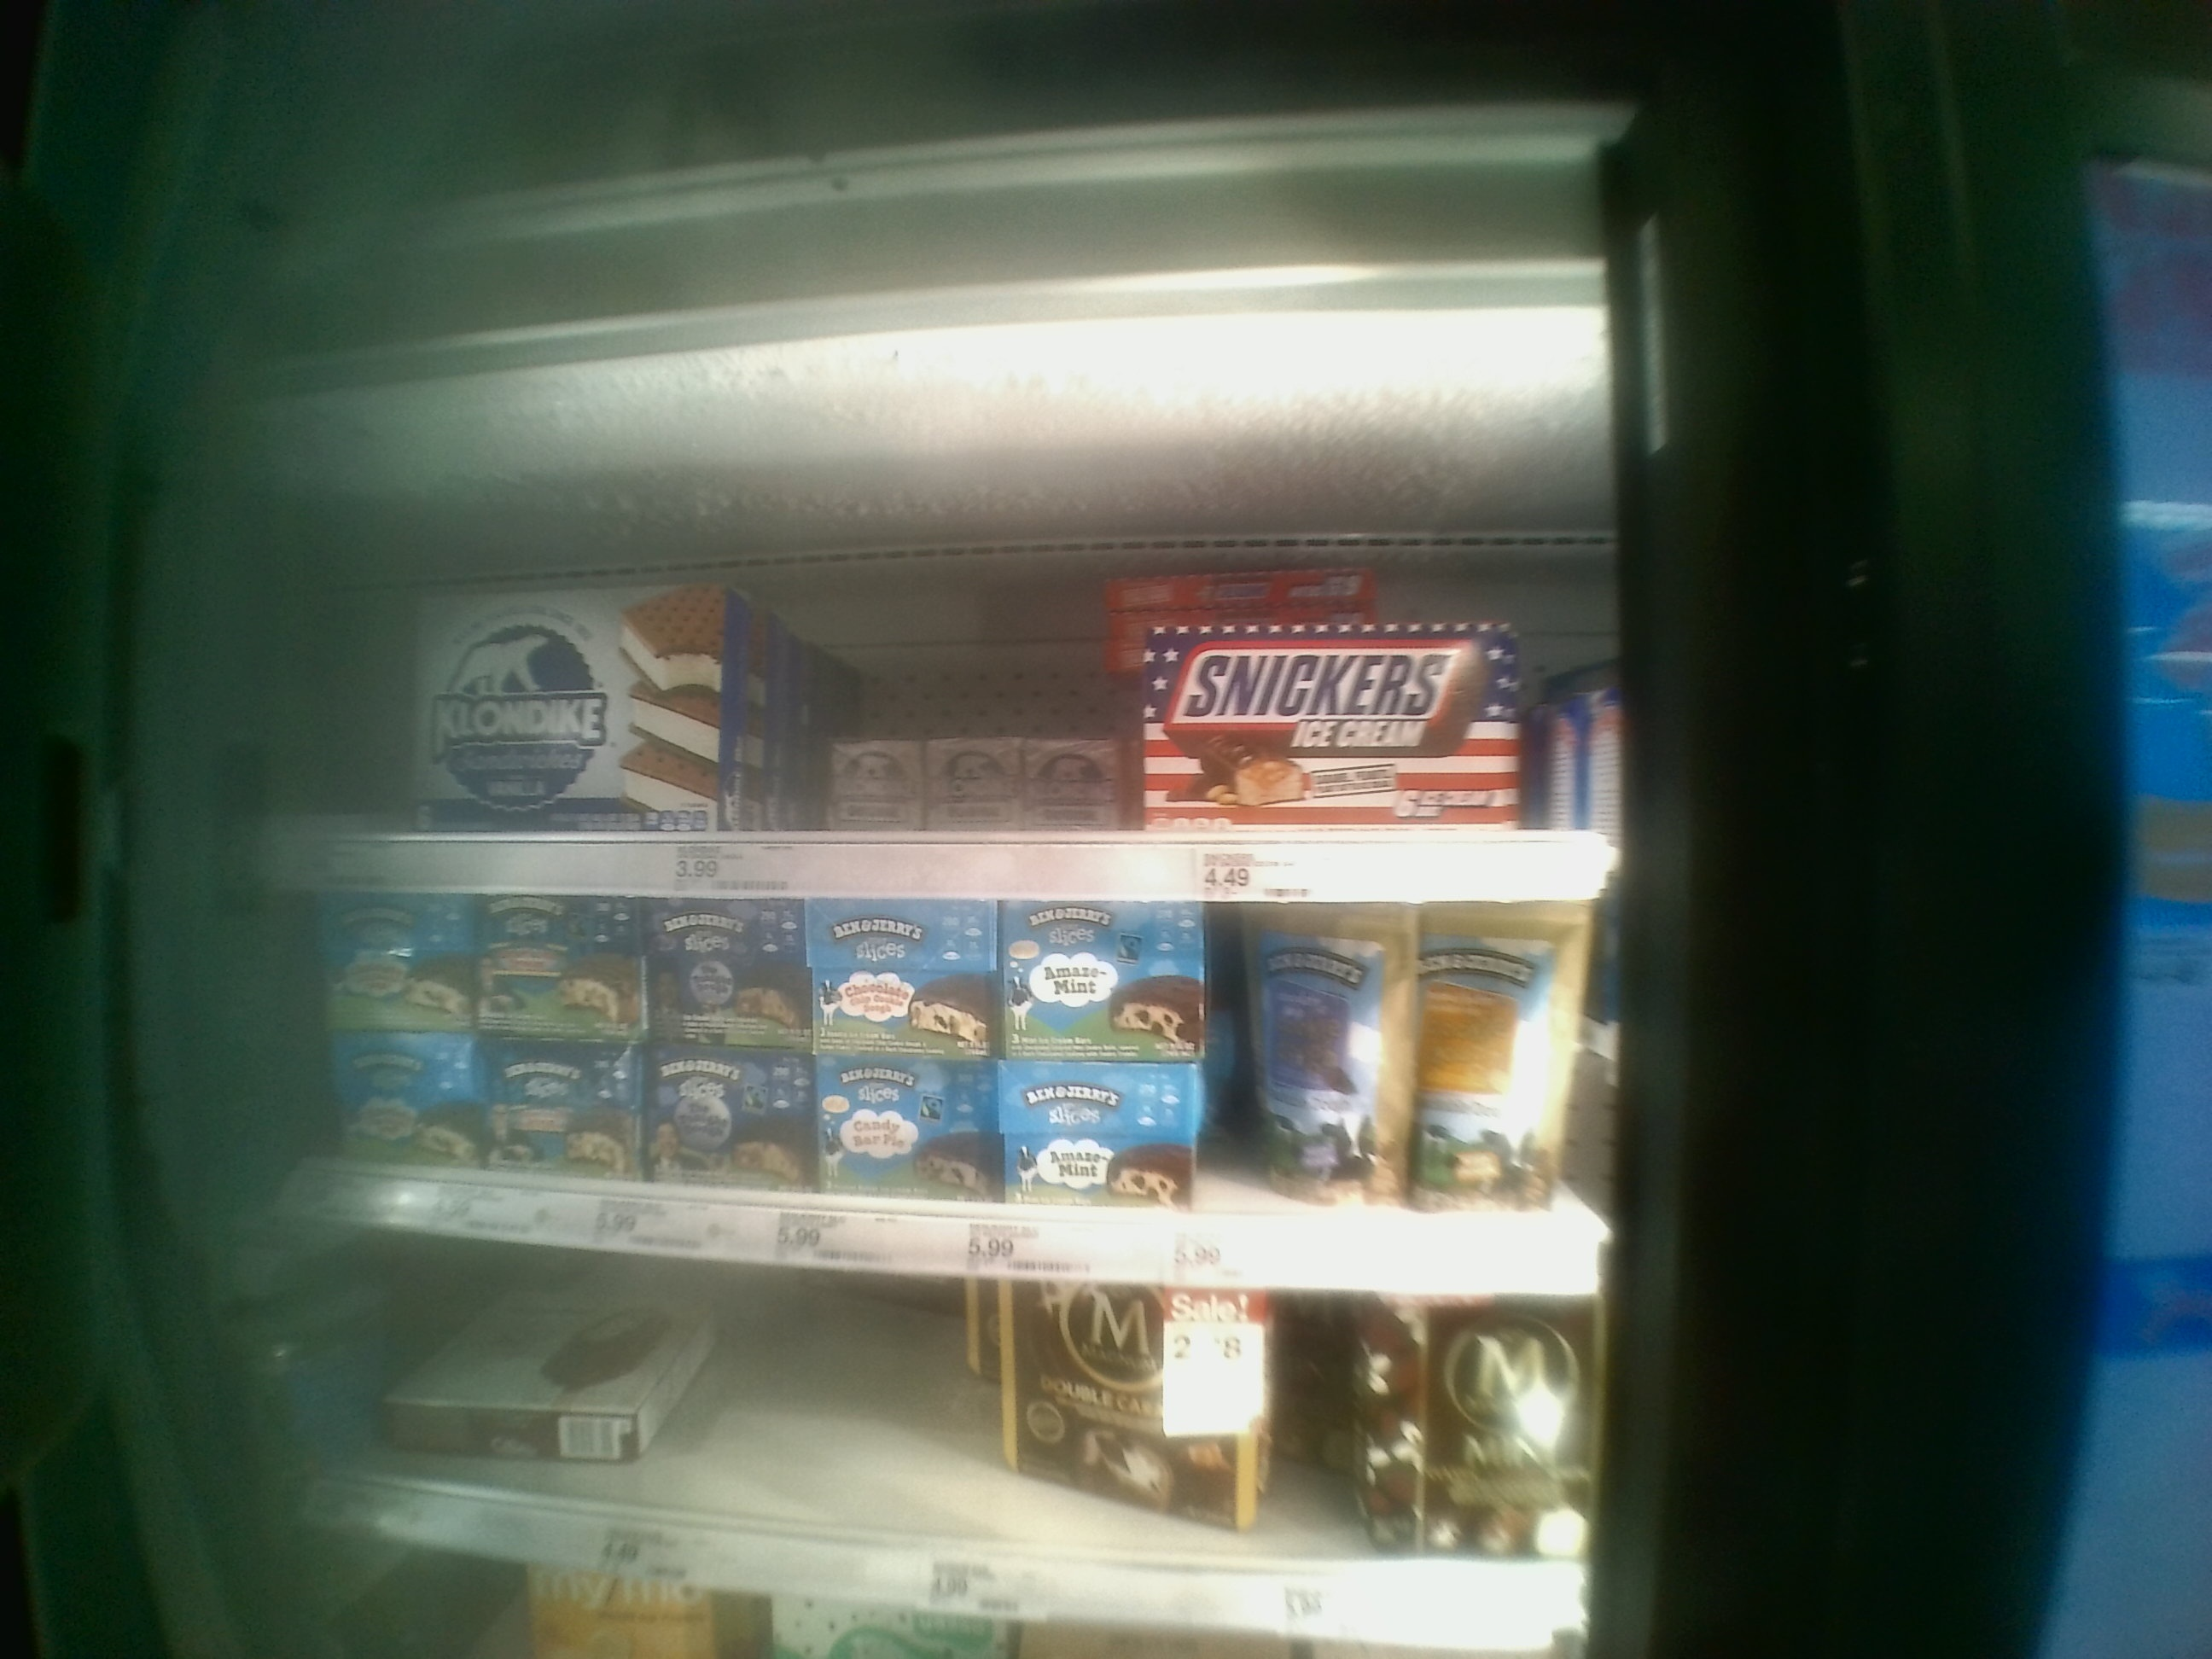ice-cream-shelf: (261, 420, 1622, 903), (246, 894, 1616, 1263)
